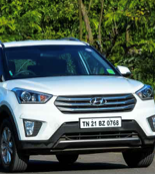TN21BZ0768: (79, 116, 121, 128)
